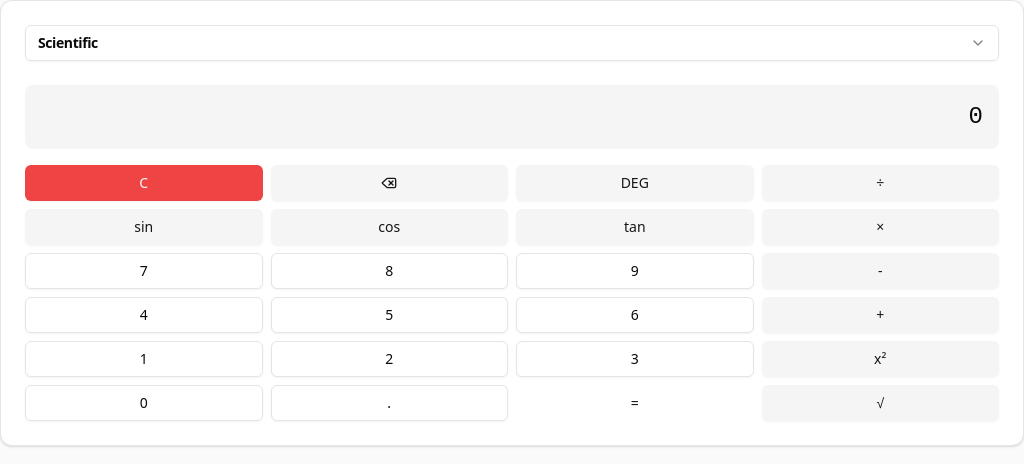
Test: Calculator › handles division by zero
Click the button "0" at (144, 403), box [25, 385, 262, 421]
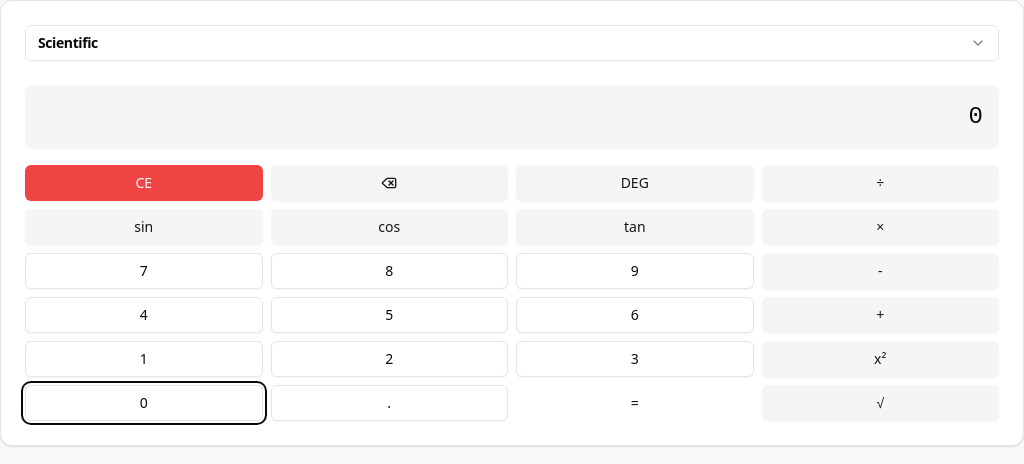
Click the button "÷" at (880, 183), box [762, 165, 999, 201]
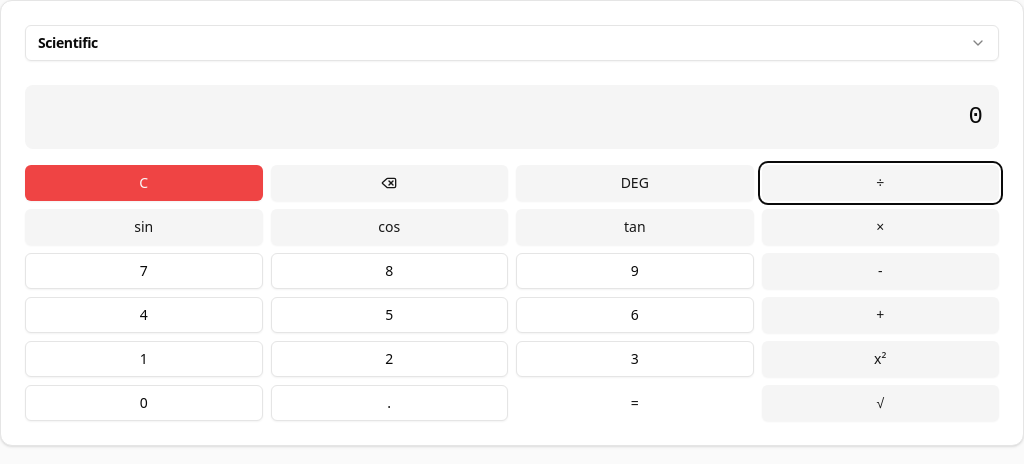
Click the button "0" at (144, 403), box [25, 385, 262, 421]
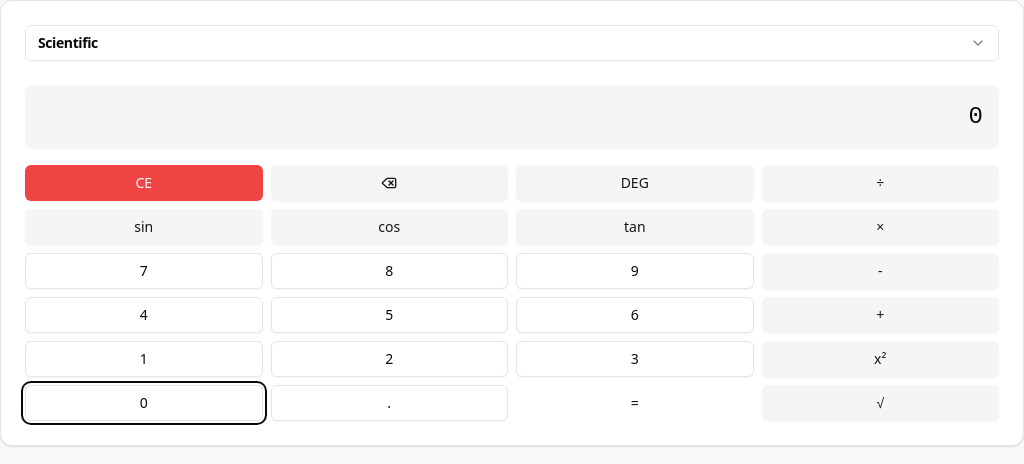
Click the button "=" at (635, 403), box [516, 385, 754, 421]
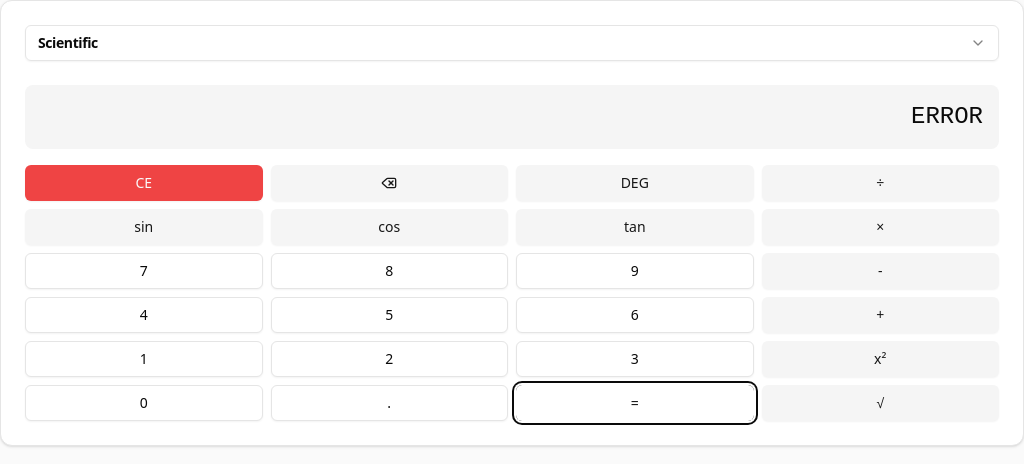
Expected: the text with test id "calculator-display" reads "ERROR", [911, 103, 983, 130]
